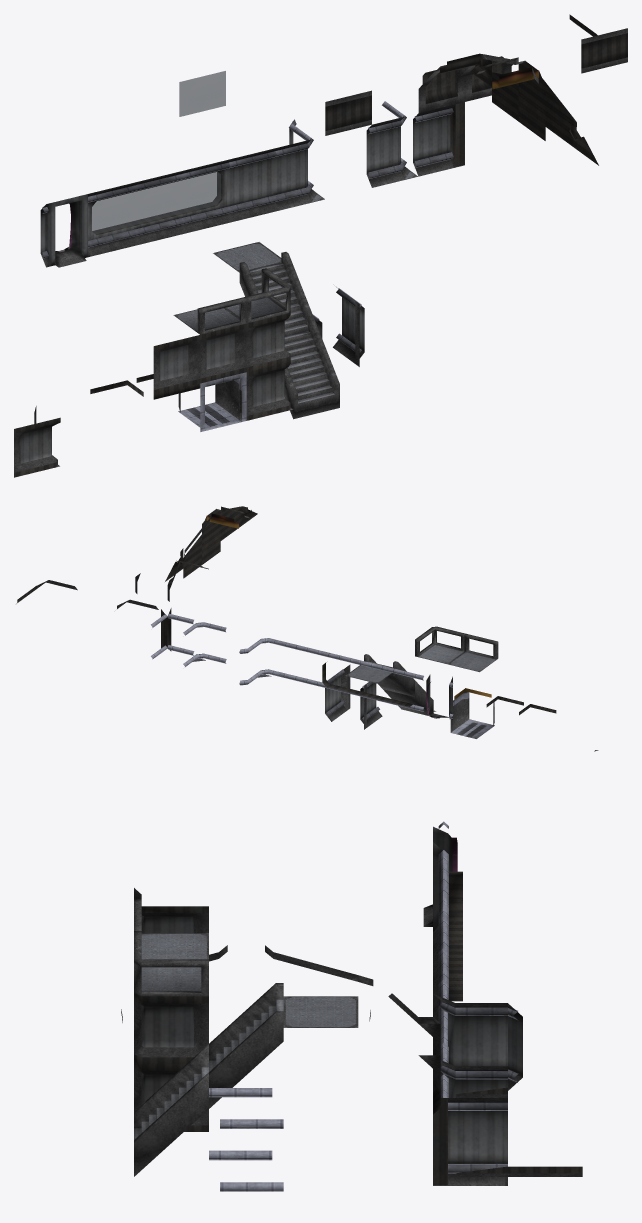
File: grave_ship_tiles.glb
3 views of the same model, one above another, from view 1: azimuth 30°, elevation 25°; view 2: azimuth 150°, elevation 25°; view 3: azimuth 270°, elevation 25° (orthographic). The views are drawn at different scales.
Parts seen in each view (by area): view 1: 03_ship_stairs_00_mid-col, 09_ship_wall_00_out_corner_sheer-col, 17_ship_wall_00_window_start-col, 15_ship_wall_00_window_mid-col, 05_ship_wall_00-col, 18_ship_wall_00_window_start_inverse-col, 30_ship_wall_roof_01-col, 29_ship_wall_00_pod_entrance-col, 32_ship_wall_00_out_corner_roof-col, 08_ship_wall_00_out_corner-col, 21_ship_wall_01_tunnel-col, 04_ship_stairs_00_top-col (+18 smaller); view 2: 21_ship_wall_01_tunnel-col, 02_ship_floor_00_rail_corner-col, 23_ship_wall_00_end_inverse-col, 01_ship_floor_00_rail-col, 04_ship_stairs_00_top-col, 09_ship_wall_00_out_corner_sheer-col, 06_ship_wall_00_end-col, 03_ship_stairs_00_mid-col, 26_ship_wall_00_roof_center_end-col, 00_ship_floor_00-col, 08_ship_wall_00_out_corner-col, 32_ship_wall_00_out_corner_roof-col (+7 smaller); view 3: 09_ship_wall_00_out_corner_sheer-col, 03_ship_stairs_00_mid-col, 20_ship_wall_01_corner-col, 04_ship_stairs_00_top-col, 08_ship_wall_00_out_corner-col, 02_ship_floor_00_rail_corner-col, 00_ship_floor_00-col, 01_ship_floor_00_rail-col, 36_ship_wall_01_corner_ground_roof-col, 32_ship_wall_00_out_corner_roof-col, 22_ship_wall_01_corner_ground-col, 18_ship_wall_00_window_start_inverse-col (+9 smaller).
Boxes of the visible parts, bbox=[...] form: 03_ship_stairs_00_mid-col: bbox=[284, 315, 339, 419]; 09_ship_wall_00_out_corner_sheer-col: bbox=[413, 102, 464, 176]; 17_ship_wall_00_window_start-col: bbox=[176, 159, 231, 233]; 15_ship_wall_00_window_mid-col: bbox=[129, 170, 185, 244]; 05_ship_wall_00-col: bbox=[227, 147, 278, 221]; 18_ship_wall_00_window_start_inverse-col: bbox=[88, 181, 138, 255]; 30_ship_wall_roof_01-col: bbox=[136, 335, 200, 399]; 29_ship_wall_00_pod_entrance-col: bbox=[40, 193, 92, 267]; 32_ship_wall_00_out_corner_roof-col: bbox=[366, 101, 417, 187]; 08_ship_wall_00_out_corner-col: bbox=[273, 124, 324, 210]; 21_ship_wall_01_tunnel-col: bbox=[178, 372, 246, 431]; 04_ship_stairs_00_top-col: bbox=[239, 252, 312, 336]; 21_ship_wall_01_tunnel-col: bbox=[450, 688, 494, 738]; 02_ship_floor_00_rail_corner-col: bbox=[415, 626, 465, 664]; 23_ship_wall_00_end_inverse-col: bbox=[325, 664, 350, 721]; 01_ship_floor_00_rail-col: bbox=[448, 633, 498, 672]; 04_ship_stairs_00_top-col: bbox=[364, 654, 414, 696]; 09_ship_wall_00_out_corner_sheer-col: bbox=[151, 608, 194, 659]; 06_ship_wall_00_end-col: bbox=[360, 681, 382, 729]; 03_ship_stairs_00_mid-col: bbox=[383, 680, 433, 715]; 26_ship_wall_00_roof_center_end-col: bbox=[202, 509, 220, 554]; 00_ship_floor_00-col: bbox=[345, 665, 391, 683]; 08_ship_wall_00_out_corner-col: bbox=[248, 638, 291, 682]; 32_ship_wall_00_out_corner_roof-col: bbox=[183, 622, 226, 666]; 09_ship_wall_00_out_corner_sheer-col: bbox=[433, 1074, 507, 1185]; 03_ship_stairs_00_mid-col: bbox=[134, 1044, 208, 1176]; 20_ship_wall_01_corner-col: bbox=[134, 993, 208, 1064]; 04_ship_stairs_00_top-col: bbox=[209, 983, 283, 1108]; 08_ship_wall_00_out_corner-col: bbox=[434, 979, 507, 1077]; 02_ship_floor_00_rail_corner-col: bbox=[134, 931, 208, 996]; 00_ship_floor_00-col: bbox=[283, 996, 358, 1027]; 01_ship_floor_00_rail-col: bbox=[134, 899, 208, 959]; 36_ship_wall_01_corner_ground_roof-col: bbox=[134, 888, 208, 933]; 32_ship_wall_00_out_corner_roof-col: bbox=[440, 1043, 507, 1097]; 22_ship_wall_01_corner_ground-col: bbox=[134, 1061, 208, 1131]; 18_ship_wall_00_window_start_inverse-col: bbox=[433, 853, 462, 964].
Size of the model in its own units: 31 by 10.72 by 14.
3 materials, 3 textured.
